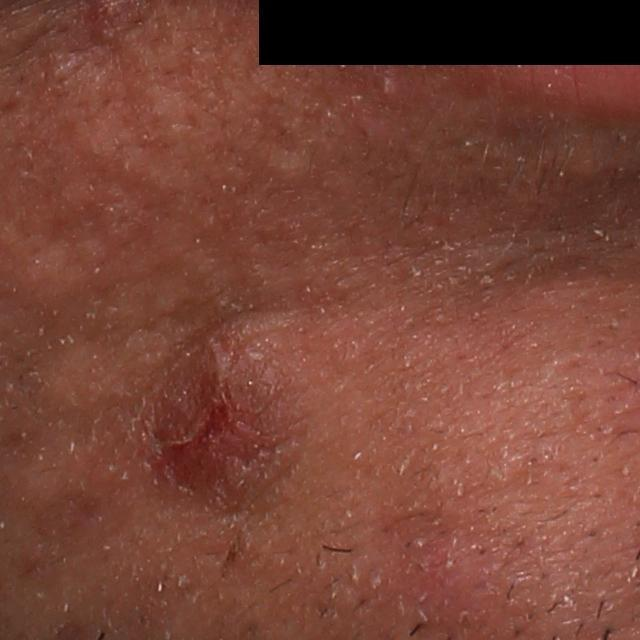hypertrophic_scar: (64, 78, 227, 219), (21, 346, 113, 423), (260, 150, 310, 179)
nodule: (154, 342, 306, 504)
